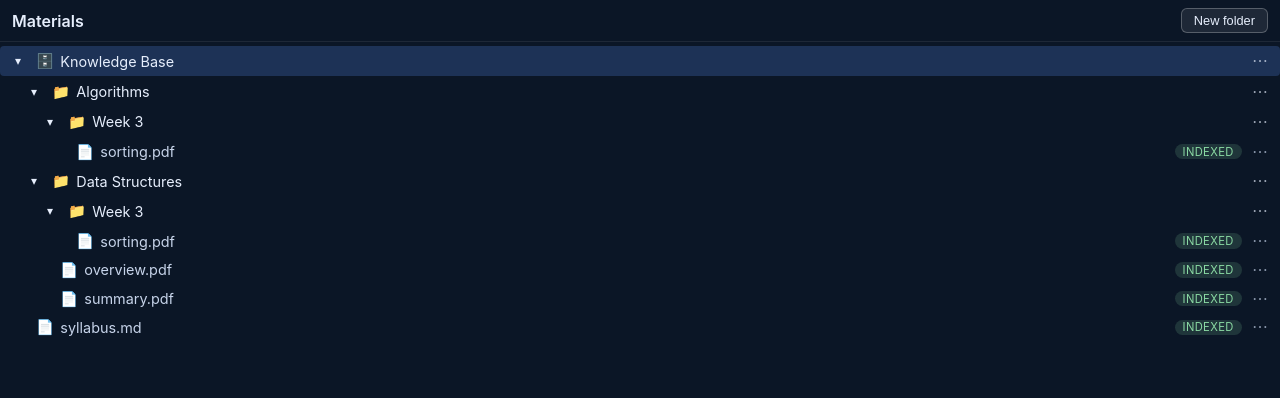
Test case: MaterialsApp context menu › replaces the native menu on files and lists the file actions
# `false` means the browser's own context menu was suppressed.
Right-click the list item with test id "file-f-overview" at (128, 270), box [0,255,1279,284]
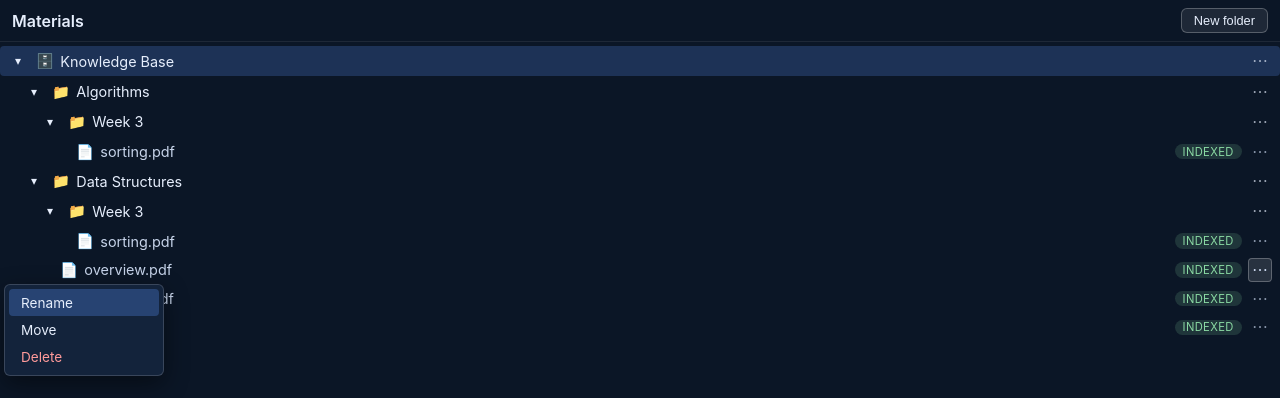
Expected: the menu named "Actions for overview.pdf" is shown, [4,284,164,376]
